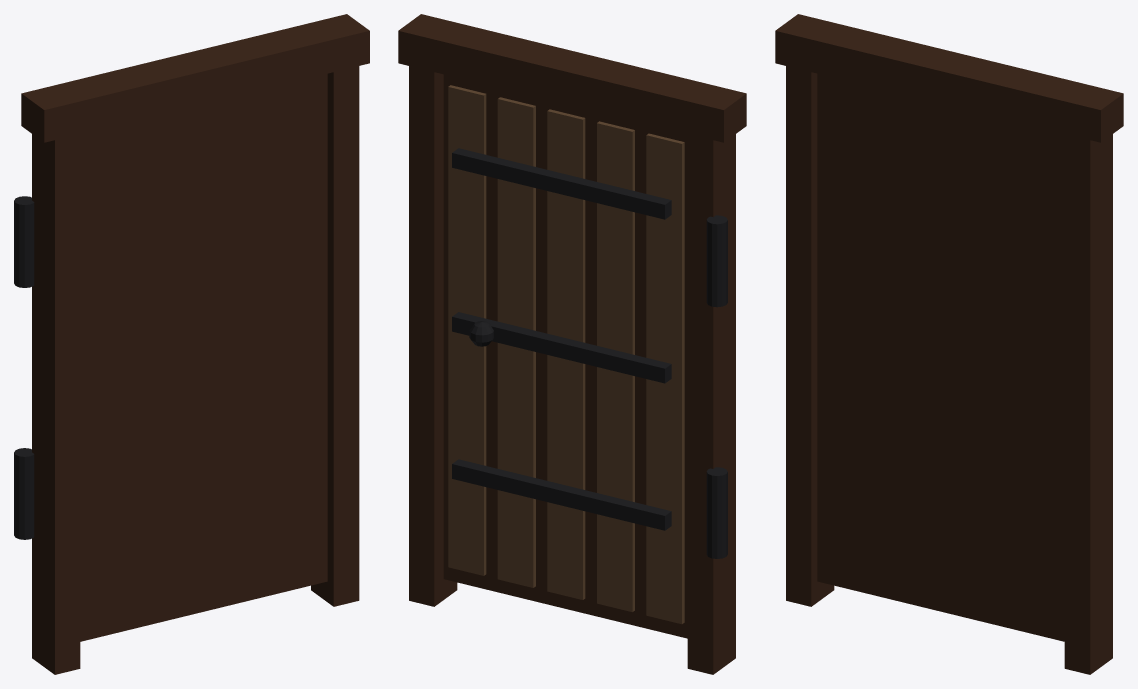
The model's file is GalakasMidCity_DOOR_WoodSingle_Narrow_01.obj.
3 renders of one model, left to right at view 1: azimuth 30°, elevation 25°; view 2: azimuth 150°, elevation 25°; view 3: azimuth 330°, elevation 25°, orthographic.
Parts seen in each view (by area): view 1: detailed_door_slab, detailed_door_frame_l, detailed_door_lintel, detailed_door_frame_r, detailed_door_hinge_pin_0, detailed_door_hinge_pin_1; view 2: detailed_door_slab, detailed_door_frame_l, detailed_door_frame_r, detailed_door_lintel, detailed_door_plank_0, detailed_door_plank_4, detailed_door_plank_3, detailed_door_plank_2, detailed_door_plank_1, detailed_door_band_0, detailed_door_band_2, detailed_door_band_1 (+3 smaller); view 3: detailed_door_slab, detailed_door_frame_r, detailed_door_lintel, detailed_door_frame_l.
Boxes of the visible parts, <box> form: detailed_door_slab: <box>80,73,327,641</box>; detailed_door_frame_l: <box>32,110,80,674</box>; detailed_door_lintel: <box>21,14,369,142</box>; detailed_door_frame_r: <box>311,42,359,606</box>; detailed_door_hinge_pin_0: <box>14,453,34,539</box>; detailed_door_hinge_pin_1: <box>14,201,34,287</box>; detailed_door_slab: <box>443,74,687,638</box>; detailed_door_frame_l: <box>687,110,735,674</box>; detailed_door_frame_r: <box>409,42,457,606</box>; detailed_door_lintel: <box>398,14,746,142</box>; detailed_door_plank_0: <box>646,133,684,624</box>; detailed_door_plank_4: <box>448,85,486,575</box>; detailed_door_plank_3: <box>497,97,535,587</box>; detailed_door_plank_2: <box>547,109,585,599</box>; detailed_door_plank_1: <box>597,121,634,612</box>; detailed_door_band_0: <box>452,459,671,530</box>; detailed_door_band_2: <box>452,148,671,219</box>; detailed_door_band_1: <box>452,312,671,383</box>; detailed_door_slab: <box>817,73,1064,641</box>; detailed_door_frame_r: <box>1064,110,1112,674</box>; detailed_door_lintel: <box>775,14,1123,142</box>; detailed_door_frame_l: <box>786,42,834,606</box>.
Size of the model in its own units: 2.33 by 3.83 by 0.4161.
